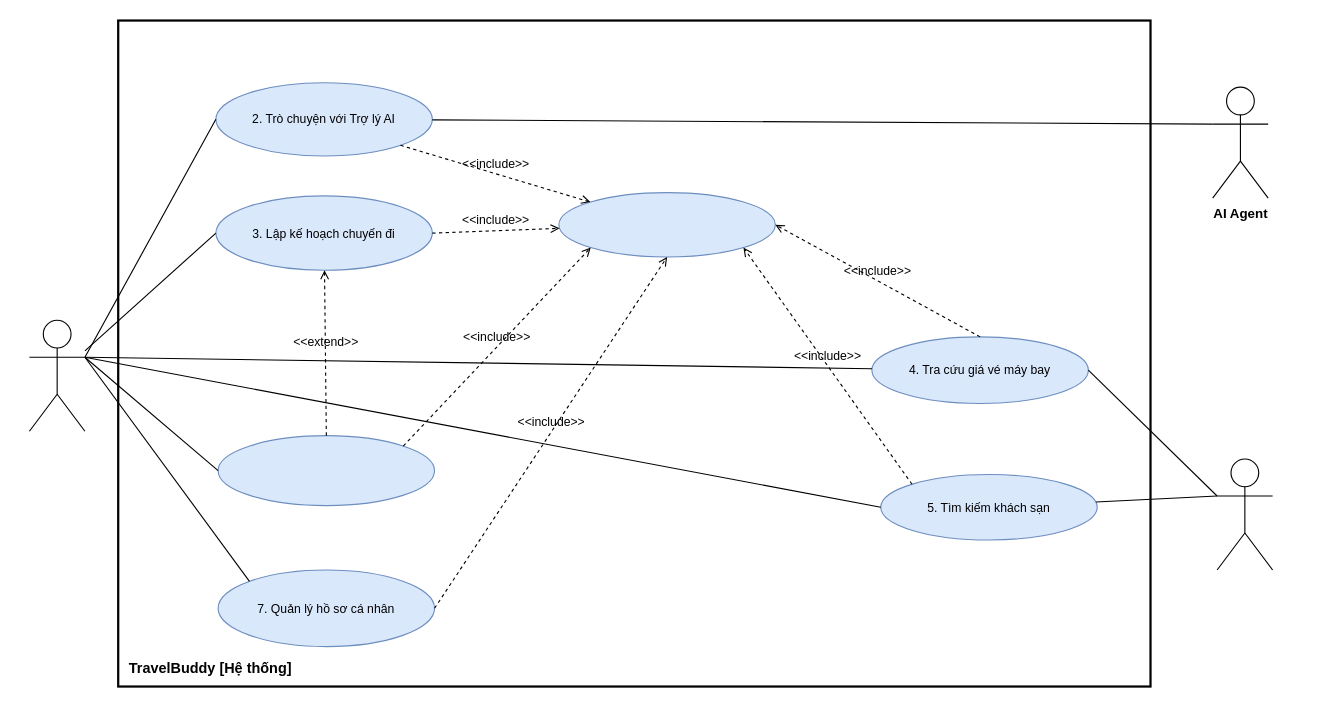
Some shapes in this 1326 by 706 pixel diagram are drawn without their labels. Here are the shapes that lost their labels. From the top down, the centre of each, then its label:
At (666,224): "1. Đăng nhập / Đăng ký".
At (56,375): "Người dùng".
At (326,470): "6. Chia sẻ hành trình du lịch".
At (1244,514): "Hệ thống bên ngoài".
